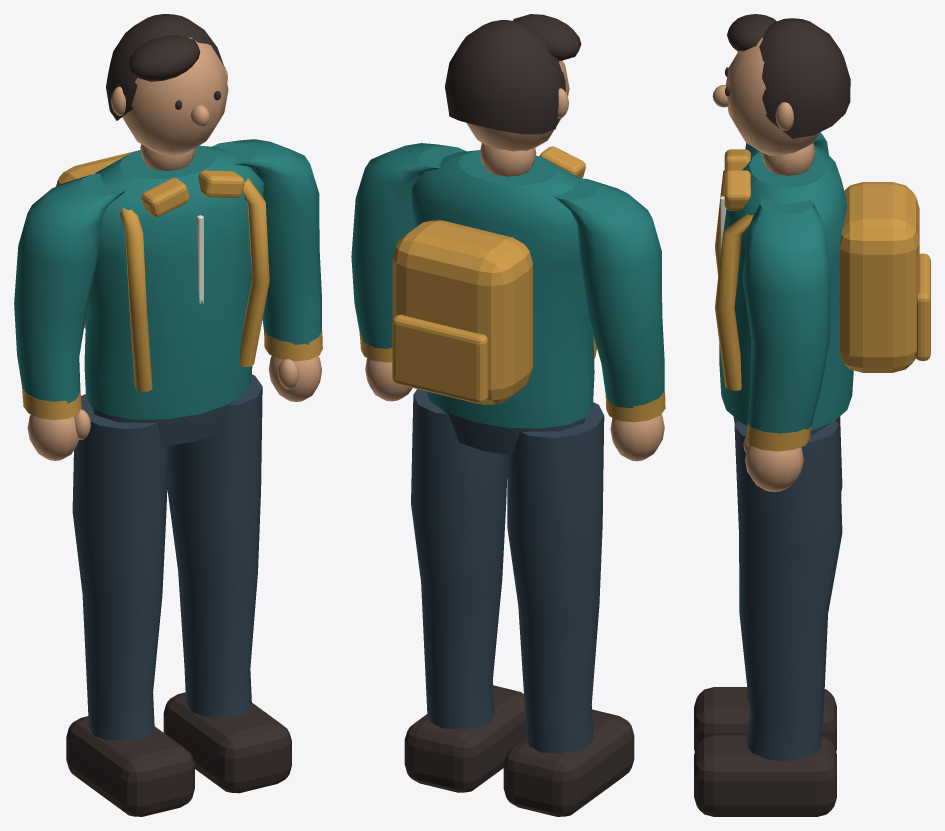
Rendered from hero.glb.
3 renders of one model, left to right at view 1: azimuth 30°, elevation 25°; view 2: azimuth 150°, elevation 25°; view 3: azimuth 270°, elevation 25°, orthographic.
Visible parts, largest first — view 1: batch-hero-root-teal, batch-right-leg-dark, batch-left-leg-dark, batch-right-arm-teal, batch-left-arm-teal, batch-hero-root-ochre, batch-right-leg-hair, batch-hero-root-skin, batch-left-leg-hair, batch-hero-root-hair, batch-right-arm-skin, batch-hero-root-dark (+4 smaller); view 2: batch-right-leg-dark, batch-left-leg-dark, batch-hero-root-ochre, batch-hero-root-teal, batch-right-arm-teal, batch-hero-root-hair, batch-left-arm-teal, batch-right-leg-hair, batch-left-leg-hair, batch-hero-root-skin, batch-hero-root-dark, batch-right-arm-skin (+2 smaller); view 3: batch-left-leg-dark, batch-hero-root-ochre, batch-left-arm-teal, batch-hero-root-teal, batch-left-leg-hair, batch-hero-root-hair, batch-hero-root-skin, batch-right-leg-hair, batch-left-arm-skin, batch-left-arm-ochre.
Part boxes in pixels (x1,y1,x2,y2): batch-hero-root-teal: (84, 145, 263, 419); batch-right-leg-dark: (72, 394, 168, 741); batch-left-leg-dark: (167, 374, 262, 717); batch-right-arm-teal: (14, 173, 127, 403); batch-left-arm-teal: (212, 139, 321, 344); batch-hero-root-ochre: (56, 151, 269, 391); batch-right-leg-hair: (66, 716, 194, 816); batch-hero-root-skin: (111, 37, 228, 170); batch-left-leg-hair: (163, 692, 291, 793); batch-hero-root-hair: (106, 14, 224, 120); batch-right-arm-skin: (27, 409, 90, 460); batch-hero-root-dark: (92, 400, 235, 446); batch-right-leg-dark: (507, 402, 604, 753); batch-left-leg-dark: (411, 389, 507, 729); batch-hero-root-ochre: (392, 146, 596, 404); batch-hero-root-teal: (412, 150, 594, 428); batch-right-arm-teal: (553, 177, 664, 407); batch-hero-root-hair: (445, 14, 581, 134); batch-left-arm-teal: (351, 143, 465, 348); batch-right-leg-hair: (503, 709, 634, 816); batch-left-leg-hair: (404, 685, 526, 792); batch-hero-root-skin: (466, 60, 569, 176); batch-hero-root-dark: (441, 408, 586, 455); batch-right-arm-skin: (610, 414, 664, 461); batch-left-leg-dark: (734, 420, 842, 761); batch-hero-root-ochre: (715, 149, 930, 390); batch-left-arm-teal: (742, 198, 830, 433); batch-hero-root-teal: (719, 145, 853, 430); batch-left-leg-hair: (694, 735, 836, 816); batch-hero-root-hair: (725, 14, 850, 138); batch-hero-root-skin: (712, 37, 819, 175); batch-right-leg-hair: (694, 687, 836, 751); batch-left-arm-skin: (743, 436, 803, 491); batch-left-arm-ochre: (746, 423, 811, 451).
Size of the model in its own units: 0.696 by 1.7 by 0.4805.
